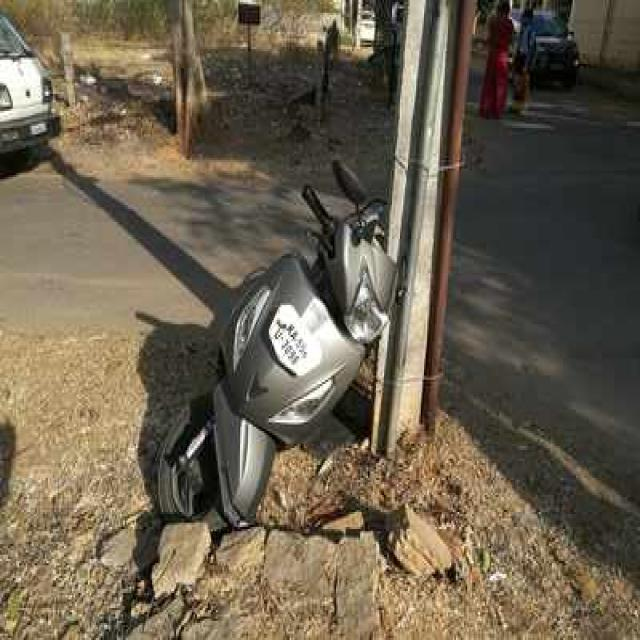accident: (155, 159, 396, 526)
car: (0, 13, 60, 152), (529, 17, 580, 88)
